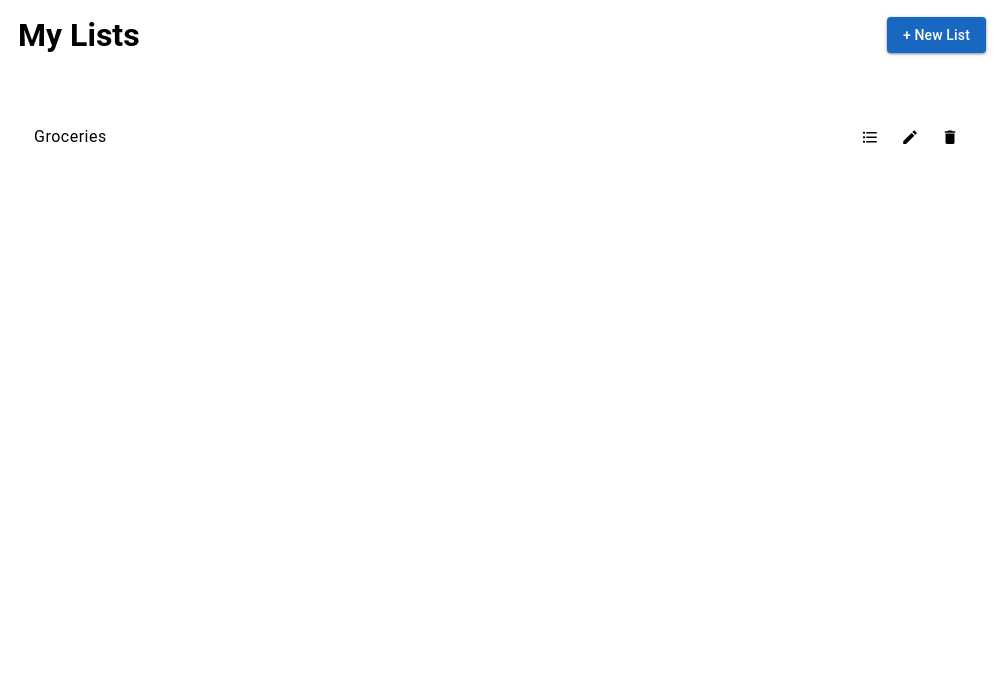
Scenario: Feature 3 — Todo List Item Management › US-3.1 — Add tasks to a list › User adds a todo with an empty title
Click the button named "View items for Groceries" at (870, 137), box x1=850 y1=117 x2=890 y2=157
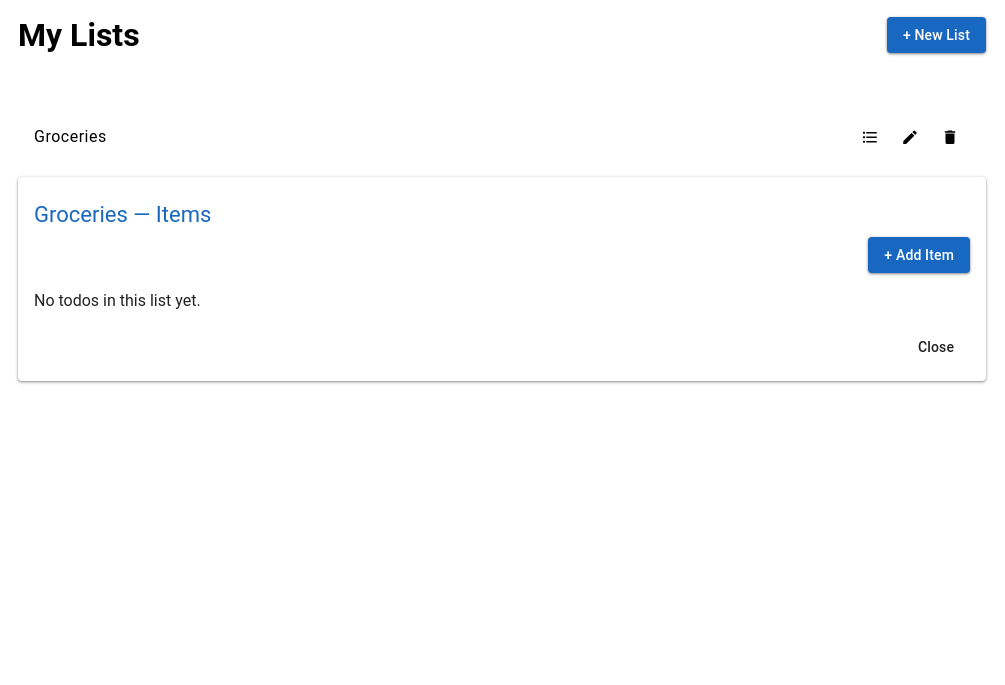
Click the button "+ Add Item" at (919, 255), box x1=868 y1=237 x2=970 y2=273
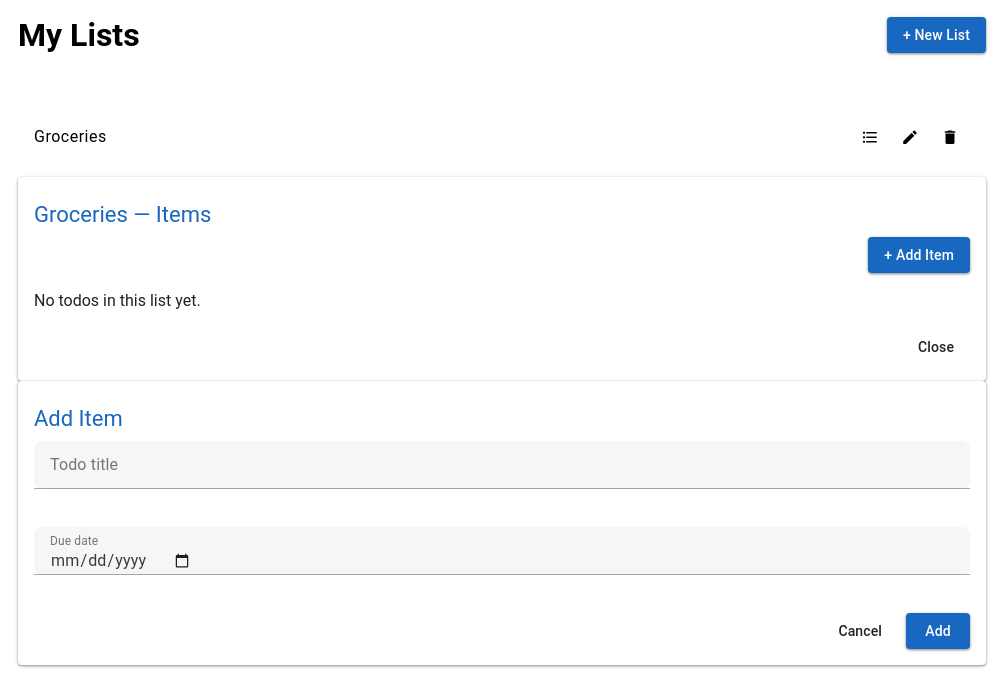
Submit the form, box x1=34 y1=441 x2=970 y2=649
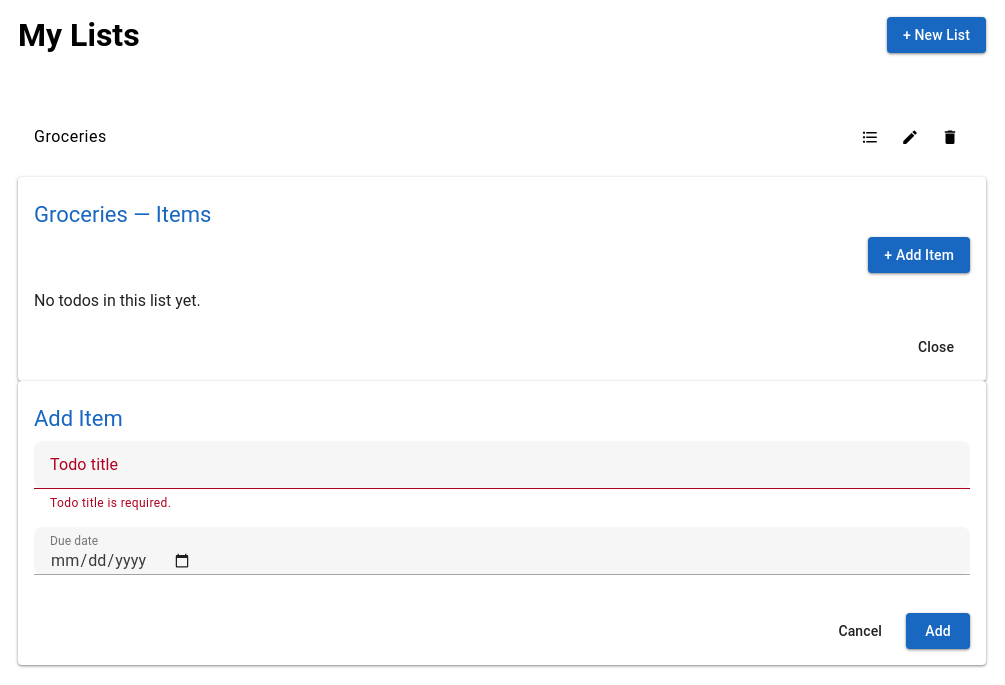
Result: the text "Todo title is required." is shown at x1=50 y1=496 x2=171 y2=510
